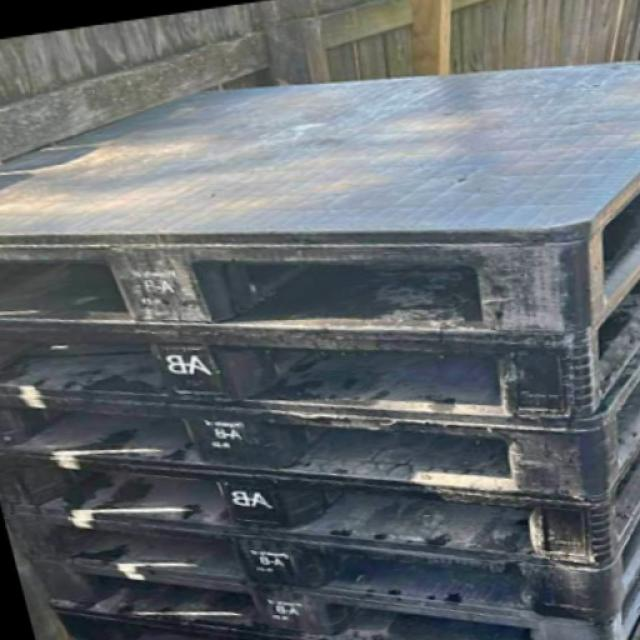non-igps: (0, 48, 640, 345), (0, 245, 639, 435), (0, 330, 639, 512), (0, 432, 639, 580), (0, 495, 640, 633), (22, 545, 640, 640), (41, 579, 295, 640)
